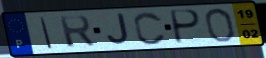C: (133, 10, 168, 46)
I: (39, 16, 55, 50)
J: (105, 12, 132, 47)
O: (202, 7, 237, 44)
P: (170, 8, 203, 45)
R: (58, 15, 98, 49)
